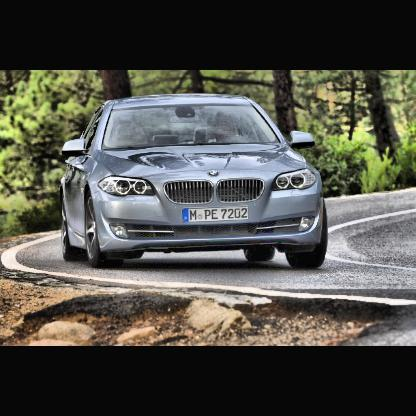BMW ActiveHybrid 5 Sedan 2012: (59, 92, 331, 272)
